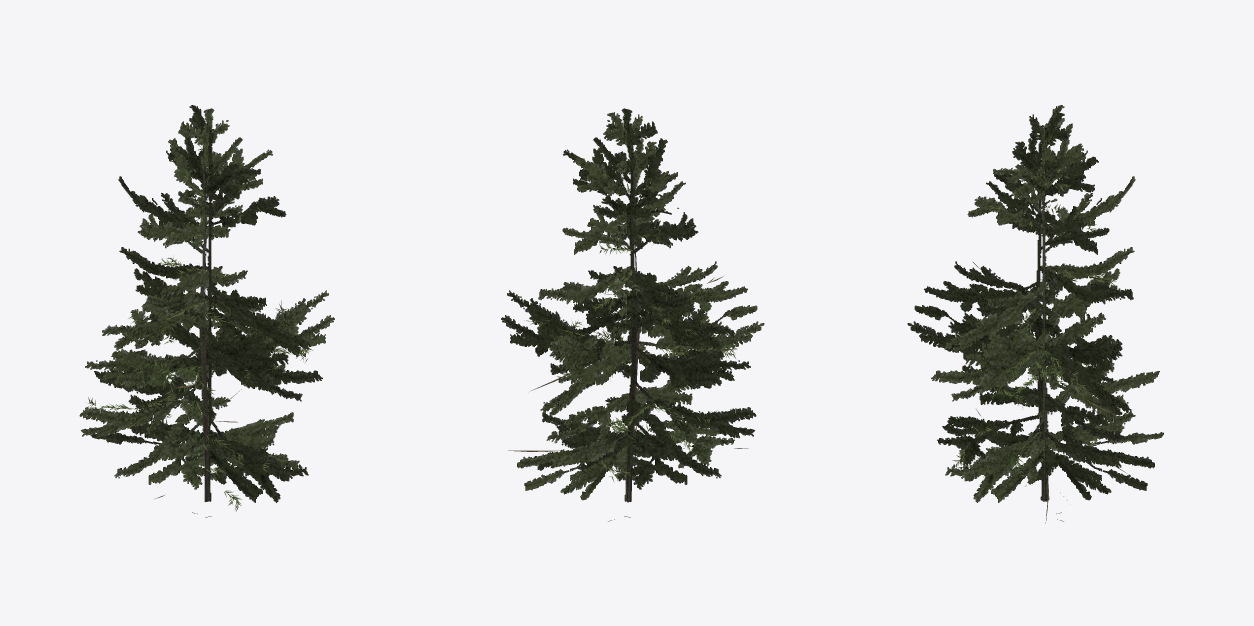
Rendered from SM_FirSapling.glb.
The picture shows the model from 3 angles, left to right: view 1: azimuth 30°, elevation 25°; view 2: azimuth 150°, elevation 25°; view 3: azimuth 270°, elevation 25°; orthographic projection.
Visible parts, largest first — view 1: SM_FirSapling; view 2: SM_FirSapling; view 3: SM_FirSapling.
Boxes of the visible parts, x1,y1,x2,y2 form: SM_FirSapling: (79, 105, 334, 517); SM_FirSapling: (501, 108, 764, 521); SM_FirSapling: (907, 105, 1163, 523).
Size of the model in its own units: 1.32 by 1.32 by 1.14.
5 materials, 5 textured.
